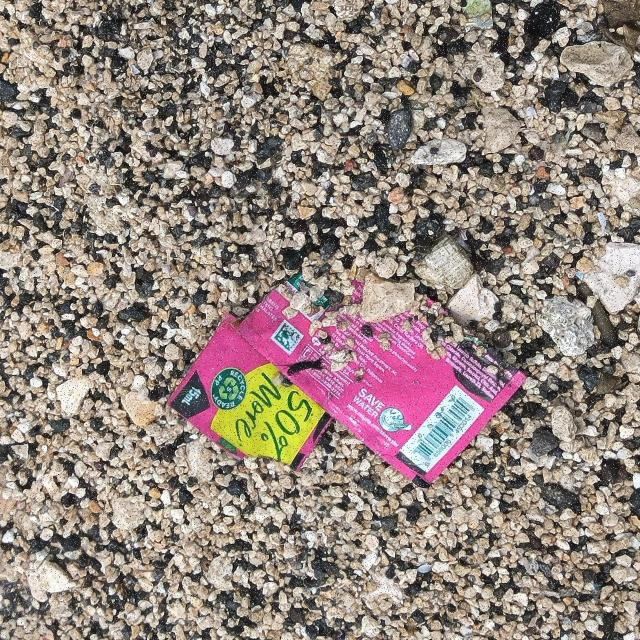plastic_waste: (165, 273, 529, 488)
